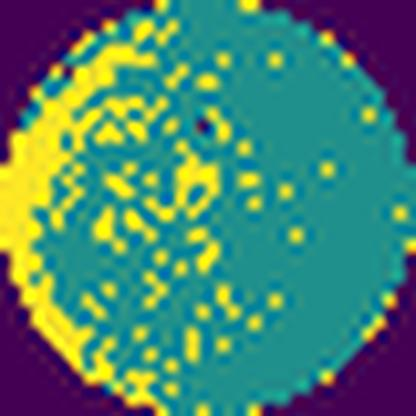Edge-Loc: (0, 30, 170, 416)
